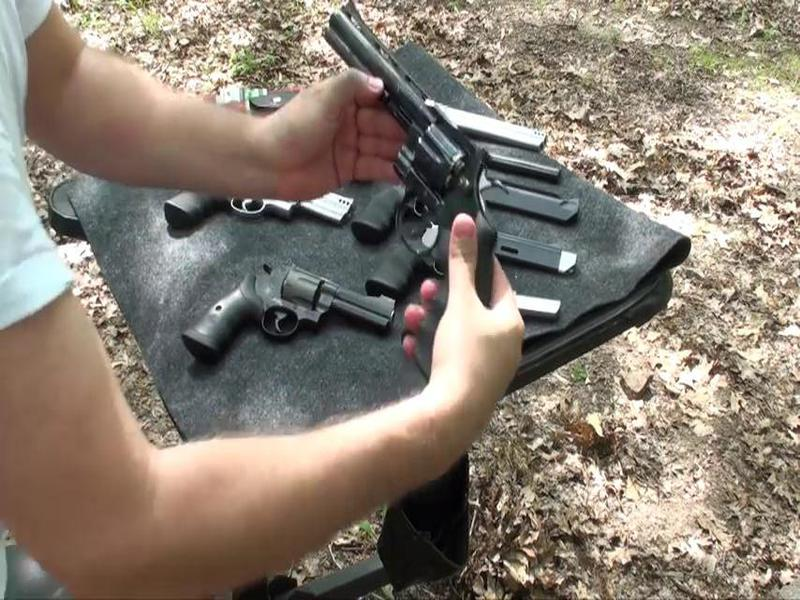Revolver: (295, 6, 523, 362)
